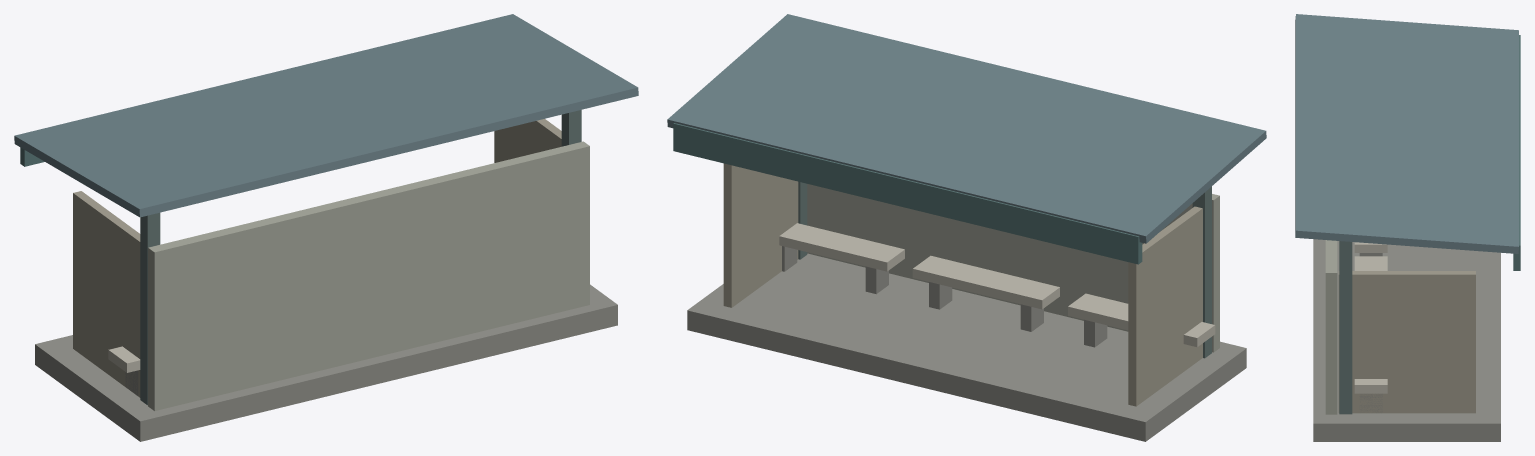
The model's file is bus_shelter.glb.
3 renders of one model, left to right at view 1: azimuth 30°, elevation 25°; view 2: azimuth 150°, elevation 25°; view 3: azimuth 270°, elevation 25°, orthographic. The views are drawn at different scales.
Visible parts, largest first — view 1: bus_shelter; view 2: bus_shelter; view 3: bus_shelter.
Part boxes in pixels (x1=…): bus_shelter: x1=14, y1=14, x2=638, y2=441; bus_shelter: x1=667, y1=14, x2=1266, y2=441; bus_shelter: x1=1295, y1=14, x2=1520, y2=441.
Size of the model in its own units: 7.1 by 3.3 by 3.12.
